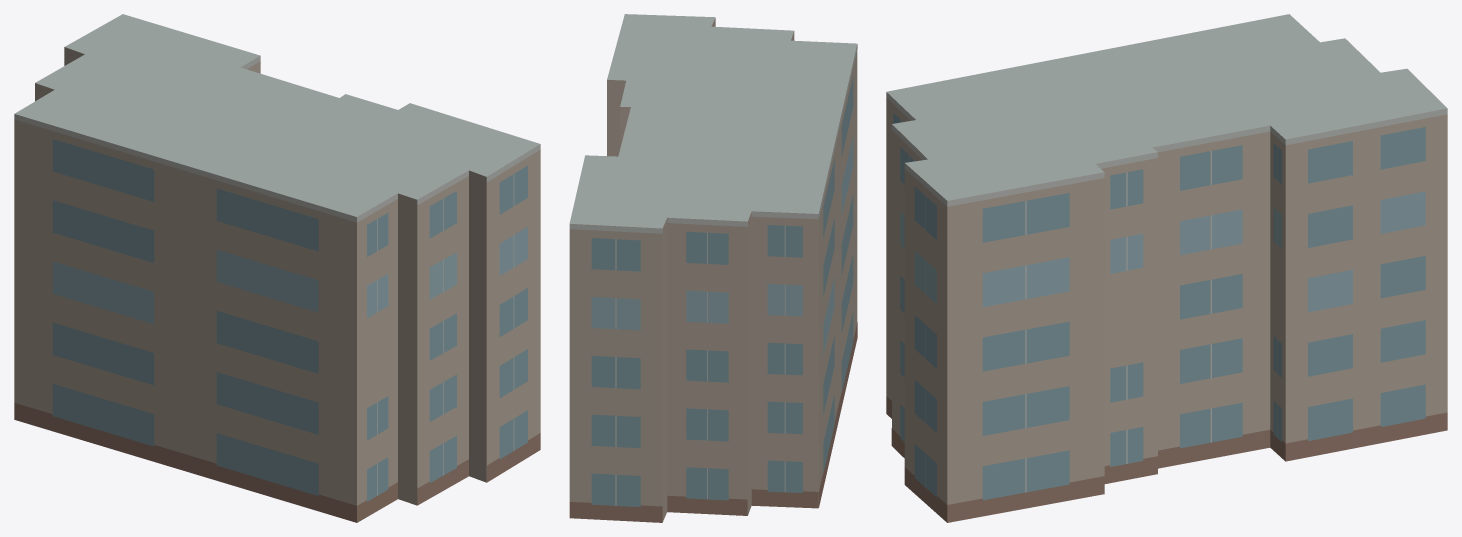
Rendered from survey-upis-32876233.glb.
3 renders of one model, left to right at view 1: azimuth 30°, elevation 25°; view 2: azimuth 150°, elevation 25°; view 3: azimuth 270°, elevation 25°, orthographic. The views are drawn at different scales.
Visible parts, largest first — view 1: survey-upis-32876233.tmp; view 2: survey-upis-32876233.tmp; view 3: survey-upis-32876233.tmp.
Part boxes in pixels (x1,y1,x2,y2): survey-upis-32876233.tmp: [14, 14, 540, 522]; survey-upis-32876233.tmp: [569, 14, 857, 522]; survey-upis-32876233.tmp: [886, 14, 1447, 522].
Bounding box in the file's own units: 16.82 × 13.5 × 21.34.
